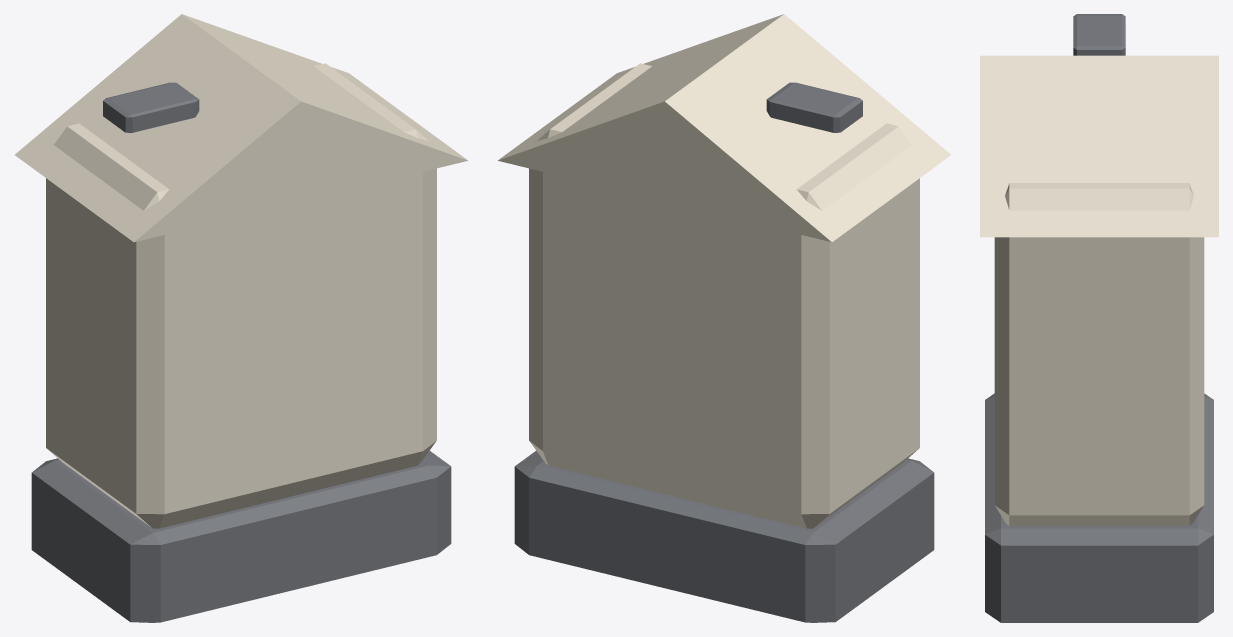
File: b10_lemonade_stand_with_canopy.glb
3 views of the same model, side by side, from view 1: azimuth 30°, elevation 25°; view 2: azimuth 150°, elevation 25°; view 3: azimuth 270°, elevation 25° (orthographic).
Parts seen in each view (by area): view 1: b10_lemonade_stand_with_canopy; view 2: b10_lemonade_stand_with_canopy; view 3: b10_lemonade_stand_with_canopy.
Boxes of the visible parts, left/top/right/bottom form: b10_lemonade_stand_with_canopy: left=15, top=14, right=467, bottom=622; b10_lemonade_stand_with_canopy: left=498, top=14, right=950, bottom=622; b10_lemonade_stand_with_canopy: left=980, top=14, right=1218, bottom=622.
Bounding box in the file's own units: 1.43 × 2.02 × 0.884.
